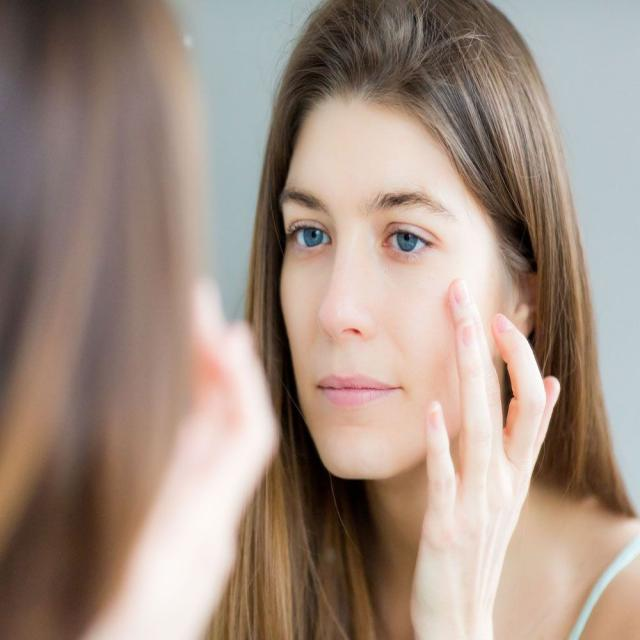Oily-Skin: (371, 276, 447, 356), (308, 135, 399, 181)
